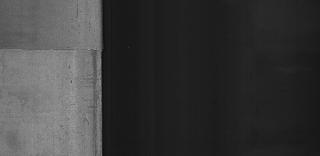welding line: (0, 45, 111, 55)
